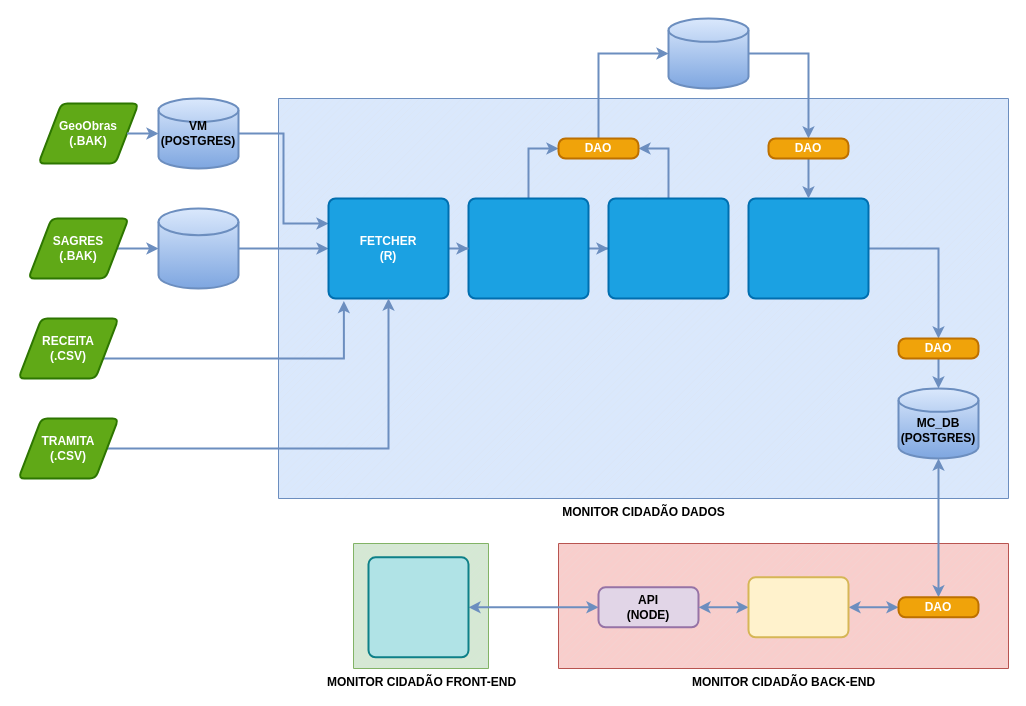
Image size: 1026x706. Some labels were removed from this diagram. Here are the shapes that lost their labels. From the top down, the centre of each, then its label:
At [708,53]: "AL_DB (POSTGRES)".
At [198,248]: "VM (SQL Server)".
At [528,248]: "TRADUTOR (R)".
At [668,248]: "TRANSFORMADOR (R)".
At [808,248]: "PROCESSADOR (R)".
At [418,607]: "FRONTEND (ANGULAR 8)".
At [798,607]: "LÓGICA DE NEGÓCIO (NODE)".
